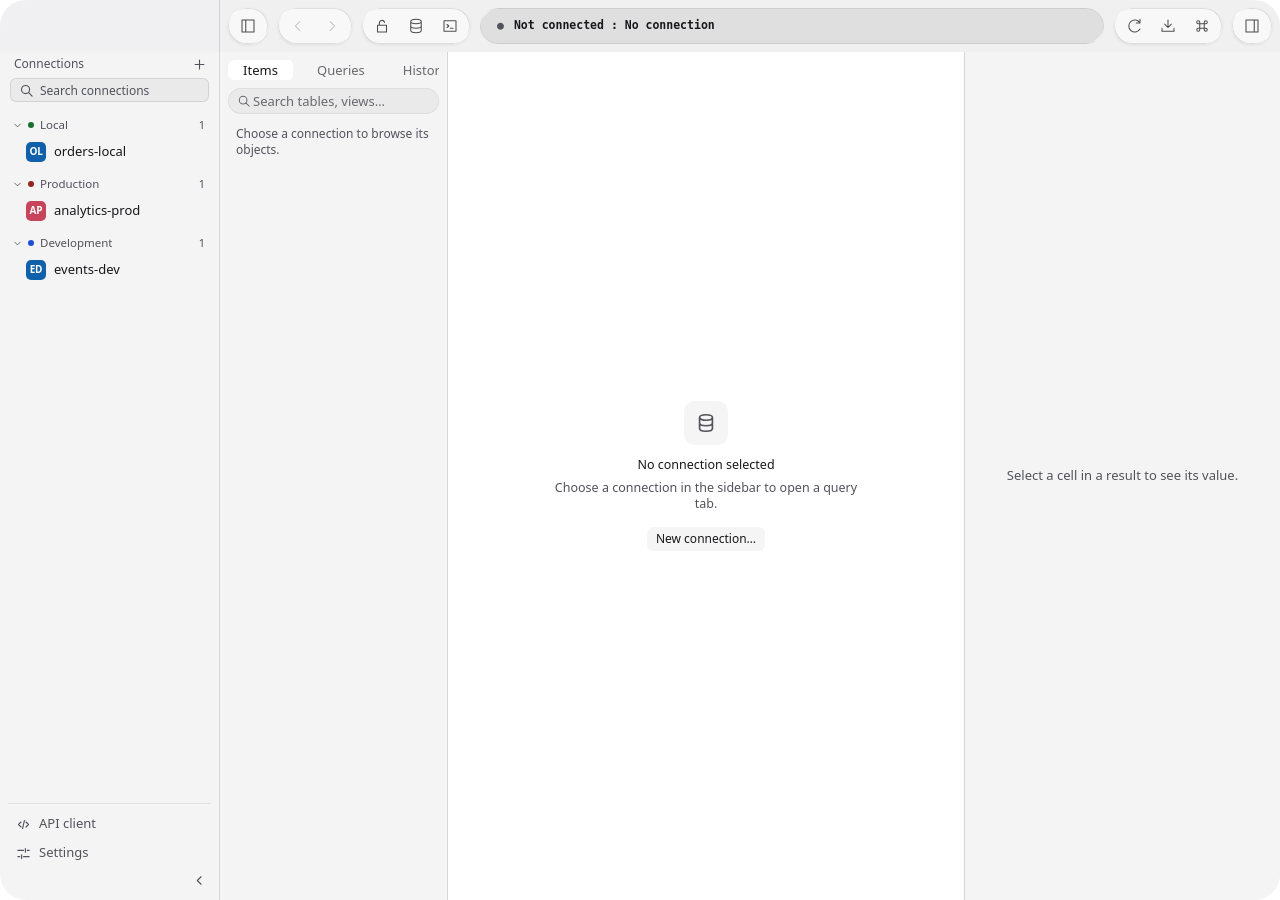
Test: searches the selected user schema through the name index
Click the button with aria-label "Switch to orders-local".
click(118, 152)  # box [26,138,211,166]
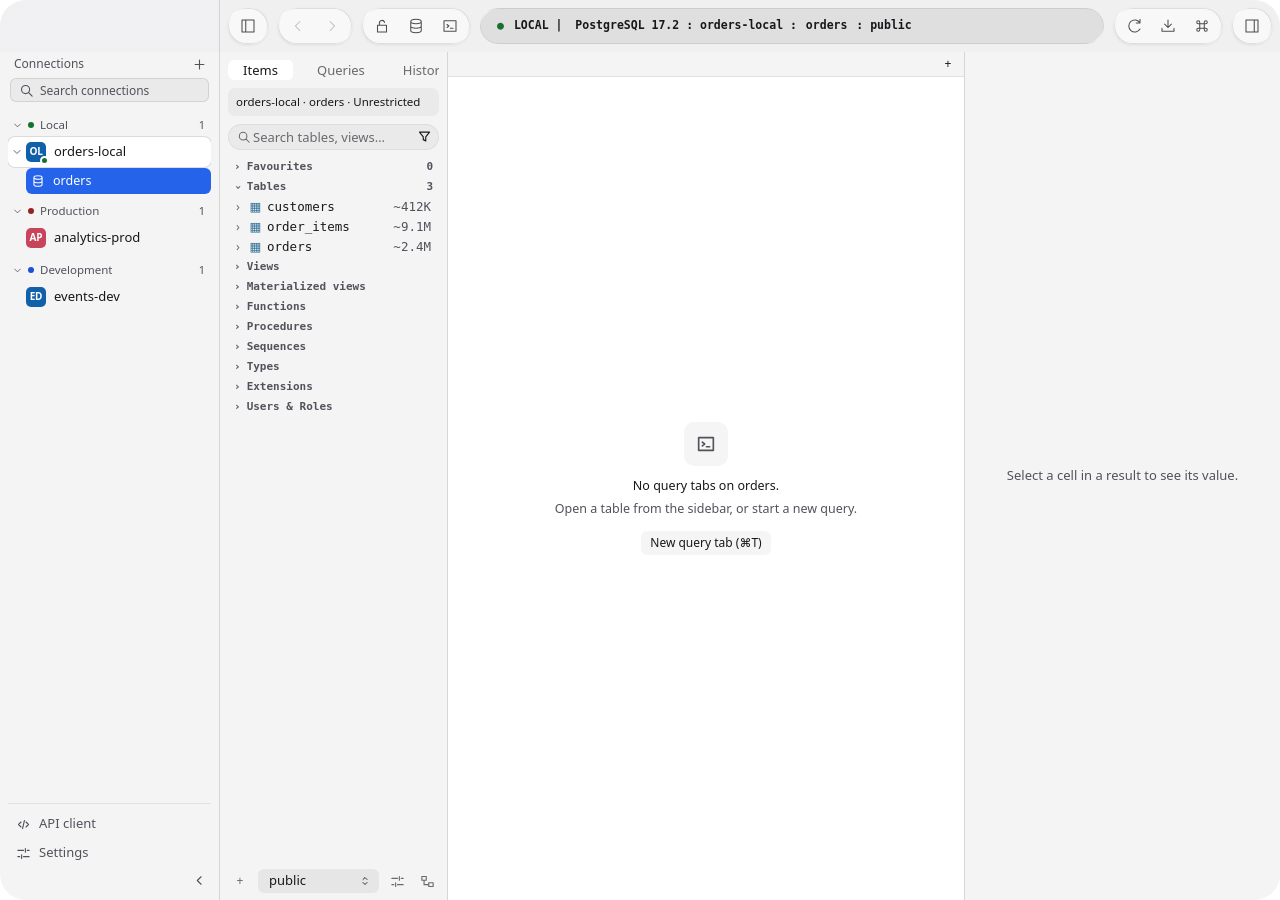
Check: the button with aria-label "Database orders" is shown, box [26,168,211,194]
Check: the button "› Tables 3" is shown, box [228,178,439,198]
Check: the list item "orders ~2.4M" is shown, box [228,238,439,258]
Type "cust" into the field named "Search items".
click(332, 136); type("cust")  # box [251,124,412,148]
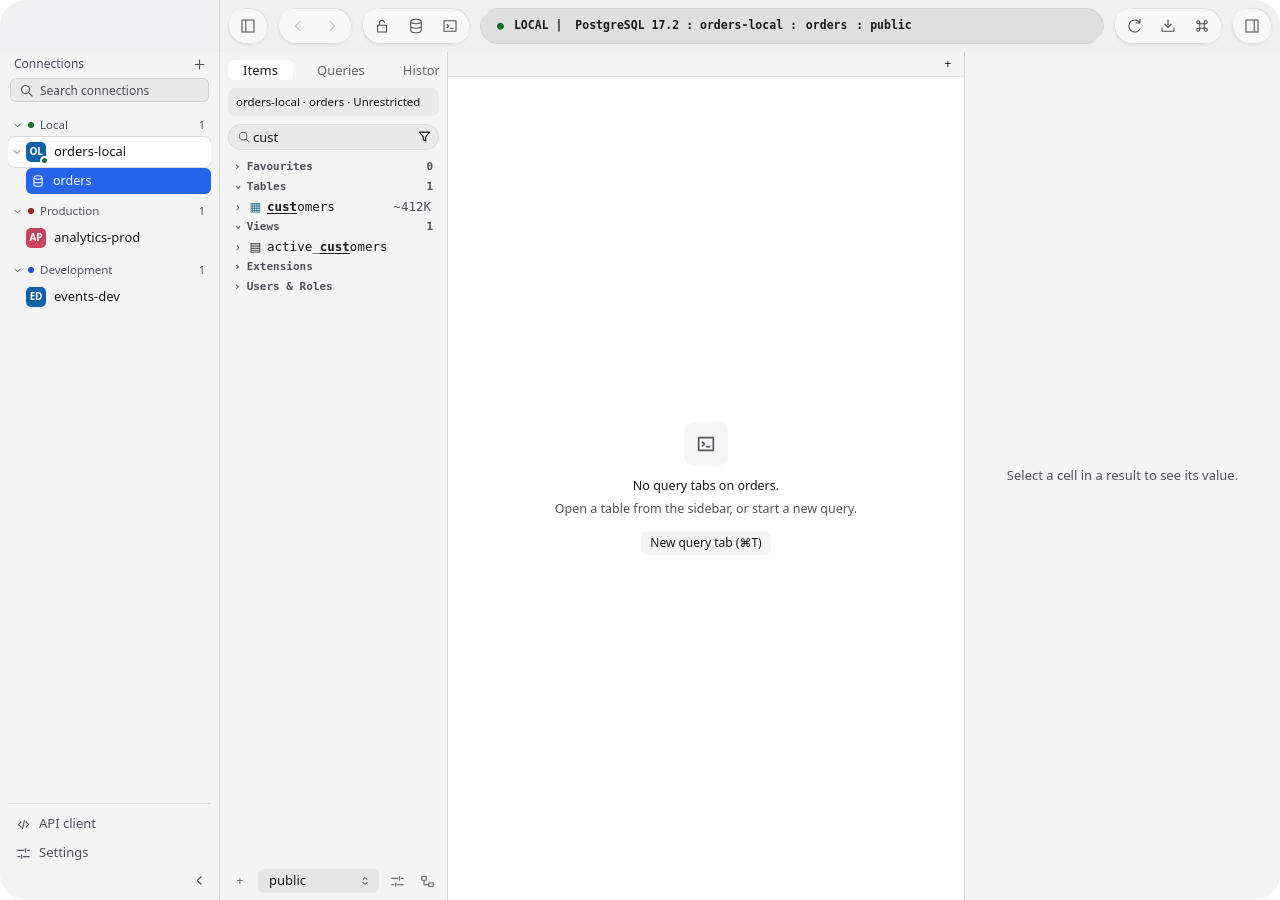
Check: the list item "customers ~412K" is shown, box [228,198,439,218]
Check: the list item "active_customers" is shown, box [236,238,388,255]
